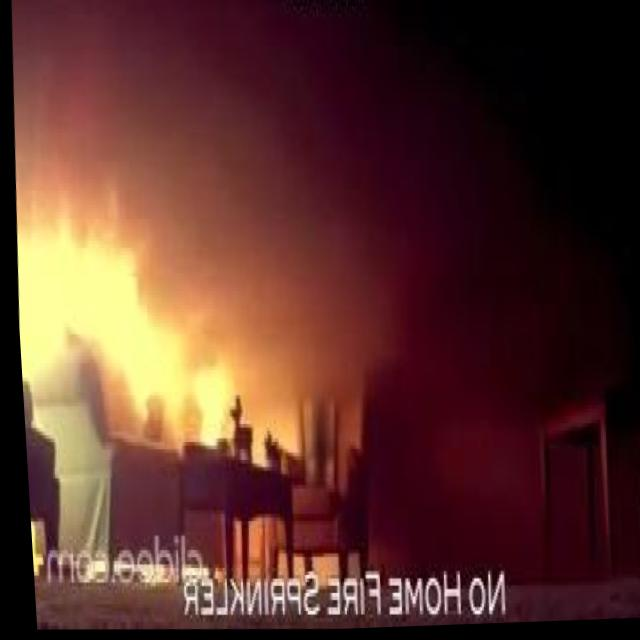fire: (10, 207, 186, 372), (114, 315, 184, 420), (179, 359, 231, 452)
